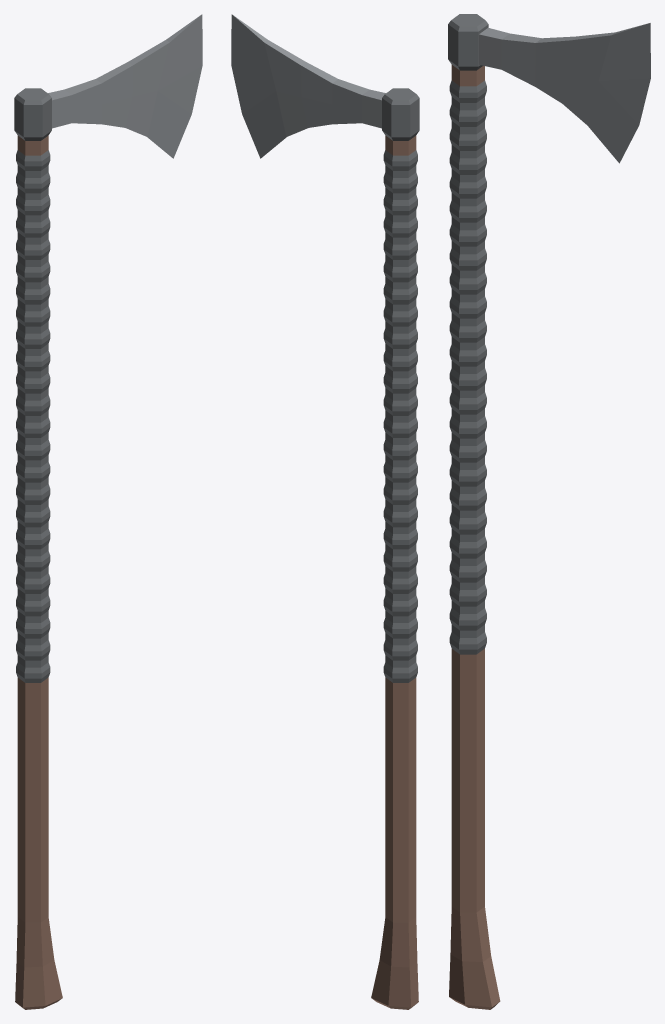
File: Poleaxe.006.fbx
3 views of the same model, side by side, from view 1: azimuth 30°, elevation 25°; view 2: azimuth 150°, elevation 25°; view 3: azimuth 330°, elevation 25° (orthographic). The views are drawn at different scales.
Parts seen in each view (by area): view 1: Poleaxe.006; view 2: Poleaxe.006; view 3: Poleaxe.006.
Part boxes in pixels (<box>): Poleaxe.006: <box>14,14,202,1009</box>; Poleaxe.006: <box>231,14,419,1009</box>; Poleaxe.006: <box>448,14,650,1009</box>.
Size of the model in its own units: 22.47 by 111 by 3.99.
